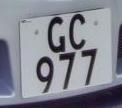7: (56, 49, 82, 93), (76, 46, 101, 90)
9: (33, 53, 59, 95)
C: (65, 10, 93, 53)
G: (43, 13, 69, 56)
